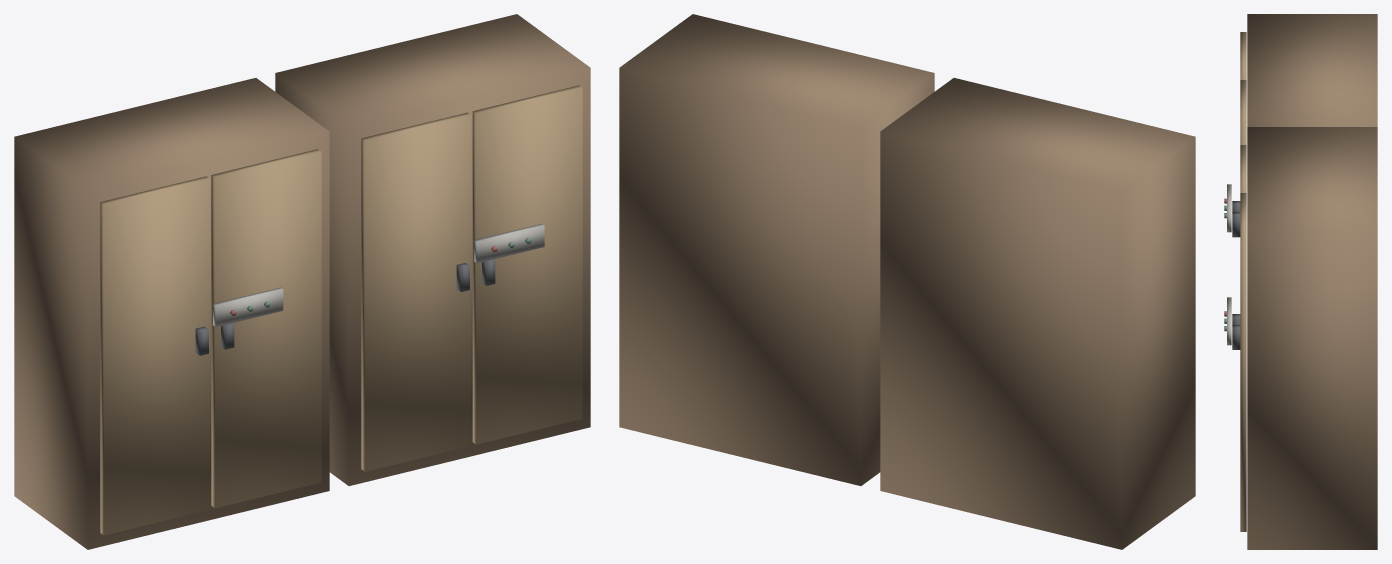
The model's file is map_cabinet__cluster.glb.
3 renders of one model, left to right at view 1: azimuth 30°, elevation 25°; view 2: azimuth 150°, elevation 25°; view 3: azimuth 270°, elevation 25°, orthographic. The views are drawn at different scales.
Parts seen in each view (by area): view 1: world; view 2: world; view 3: world.
Part boxes in pixels (x1,y1,x2,y2): world: (14,14,590,549); world: (619,14,1195,549); world: (1224,14,1377,549).
Bounding box in the file's own units: 1.98 × 1.35 × 0.5885.
